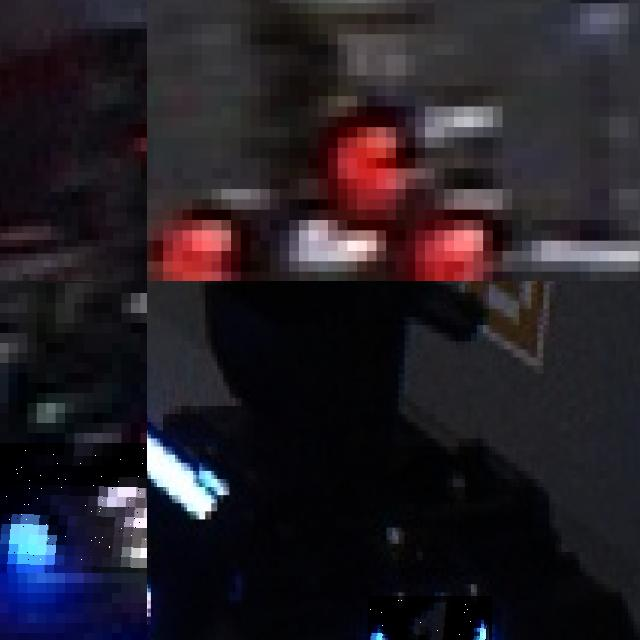B1: (368, 596, 492, 640)
B3: (0, 443, 147, 573)
